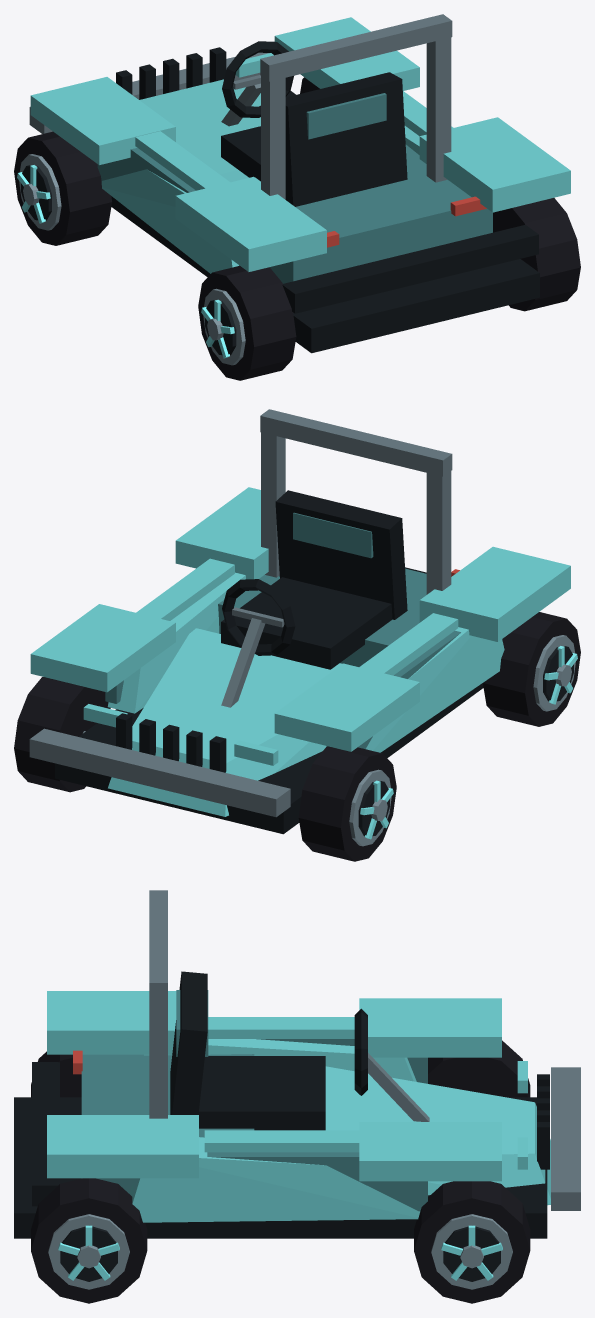
File: kart.glb
The picture shows the model from 3 angles, top to bottom: view 1: azimuth 30°, elevation 25°; view 2: azimuth 150°, elevation 25°; view 3: azimuth 270°, elevation 25°; orthographic projection. The views are drawn at different scales.
Visible parts, largest first — view 1: chassis, wheel-rear-left, wheel-front-left, wheel-rear-right; view 2: chassis, wheel-front-left, wheel-rear-left, wheel-front-right; view 3: chassis, wheel-rear-right, wheel-front-right, wheel-front-left, wheel-rear-left.
Boxes of the visible parts, x1,y1,x2,y2 form: chassis: (29,14,570,353); wheel-rear-left: (198,265,296,380); wheel-front-left: (14,131,111,245); wheel-rear-right: (493,198,580,311); chassis: (29,409,570,834); wheel-front-left: (298,746,396,861); wheel-rear-left: (483,612,580,726); wheel-front-right: (14,677,110,792); chassis: (14,890,580,1238); wheel-rear-right: (31,1178,147,1303); wheel-front-right: (414,1181,530,1303); wheel-front-left: (428,1040,530,1097); wheel-rear-left: (31,1051,81,1097).
Bounding box in the file's own units: 2.26 × 1.67 × 3.02.
